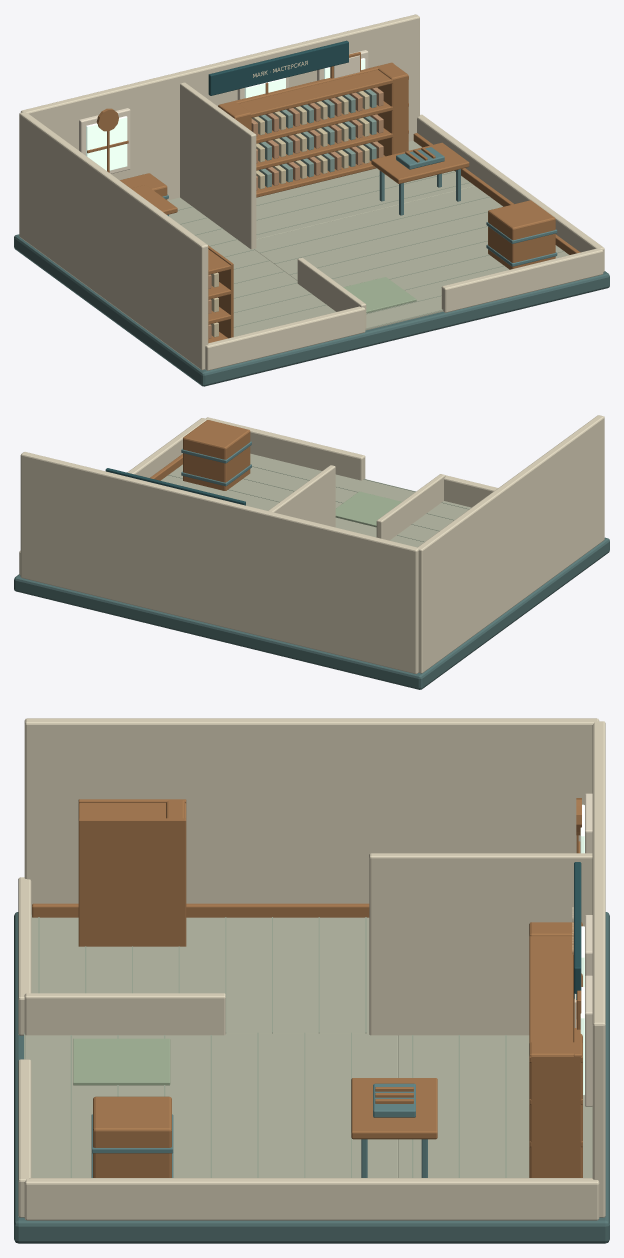
The model's file is interior-station.glb.
The picture shows the model from 3 angles, top to bottom: view 1: azimuth 30°, elevation 25°; view 2: azimuth 150°, elevation 25°; view 3: azimuth 270°, elevation 25°; orthographic projection. The views are drawn at different scales.
Parts seen in each view (by area): view 1: Surface Warm plaster, Surface Concrete, Surface Honey oak, Interior plinth, Enamel sign, Surface Book1, Surface Book2, Surface Floor seam, Surface Book0, Surface Daylight, Surface Steel, Welcome rug (+1 smaller); view 2: Surface Warm plaster, Interior plinth, Surface Concrete, Surface Honey oak, Welcome rug, Enamel sign, Surface Steel, Surface Floor seam; view 3: Surface Warm plaster, Surface Concrete, Surface Honey oak, Interior plinth, Welcome rug, Surface Floor seam, Surface Steel, Surface Linen, Enamel sign, Surface Daylight.
Part boxes in pixels (x1,y1,x2,y2): Surface Warm plaster: (19, 14, 604, 370); Surface Concrete: (168, 140, 569, 336); Surface Honey oak: (87, 52, 580, 343); Interior plinth: (14, 234, 609, 386); Enamel sign: (208, 40, 348, 95); Surface Book1: (208, 87, 383, 338); Surface Book2: (210, 91, 369, 337); Surface Floor seam: (177, 171, 564, 328); Surface Book0: (258, 89, 376, 187); Surface Daylight: (86, 58, 365, 170); Surface Steel: (162, 147, 557, 266); Welcome rug: (343, 277, 416, 313); Surface Warm plaster: (19, 415, 604, 673); Interior plinth: (14, 537, 609, 689); Surface Concrete: (161, 453, 471, 547); Surface Honey oak: (150, 420, 250, 490); Welcome rug: (335, 491, 401, 527); Enamel sign: (105, 468, 245, 505); Surface Steel: (181, 441, 251, 486); Surface Floor seam: (168, 466, 469, 541); Surface Warm plaster: (18, 718, 605, 1220); Surface Concrete: (25, 914, 592, 1177); Surface Honey oak: (32, 798, 582, 1177); Interior plinth: (14, 912, 609, 1243); Welcome rug: (73, 1038, 170, 1085); Surface Floor seam: (24, 917, 506, 1177); Surface Steel: (91, 1083, 427, 1177); Surface Linen: (574, 793, 592, 1106); Enamel sign: (574, 862, 581, 999); Surface Daylight: (580, 804, 584, 1095).
Size of the model in its own units: 10.3 by 3.33 by 8.3.
